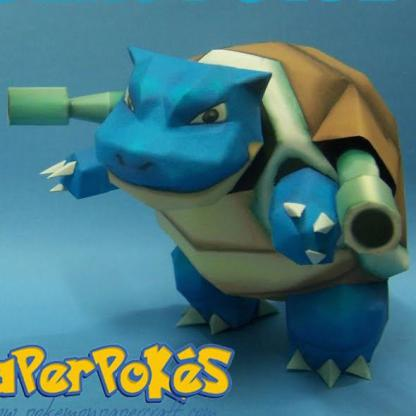Blastoise: (18, 30, 416, 385)
